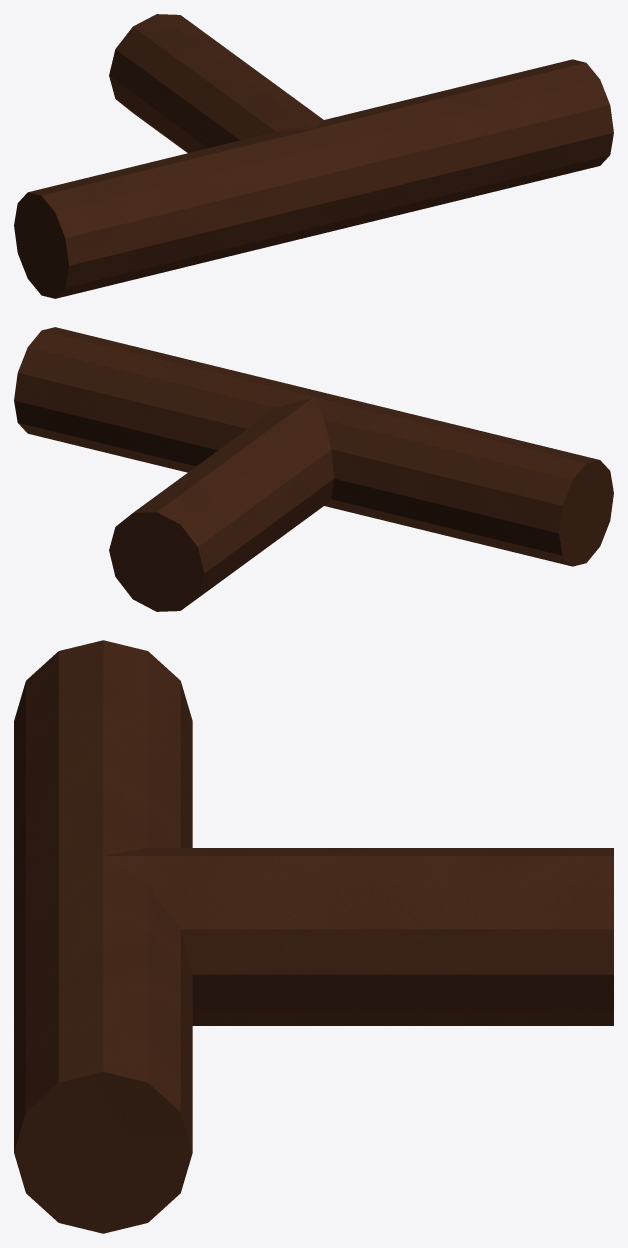
File: Decor_PipeTee.fbx
3 renders of one model, top to bottom at view 1: azimuth 30°, elevation 25°; view 2: azimuth 150°, elevation 25°; view 3: azimuth 270°, elevation 25°, orthographic. The views are drawn at different scales.
Parts seen in each view (by area): view 1: ENV_Foundry_Decor_PipeTee_LOD0; view 2: ENV_Foundry_Decor_PipeTee_LOD0; view 3: ENV_Foundry_Decor_PipeTee_LOD0.
Boxes of the visible parts, x1,y1,x2,y2 form: ENV_Foundry_Decor_PipeTee_LOD0: (14,14,613,298); ENV_Foundry_Decor_PipeTee_LOD0: (14,327,613,611); ENV_Foundry_Decor_PipeTee_LOD0: (14,640,613,1233).
Size of what is drawn, in the model's own units: 4 by 0.7 by 2.35.
